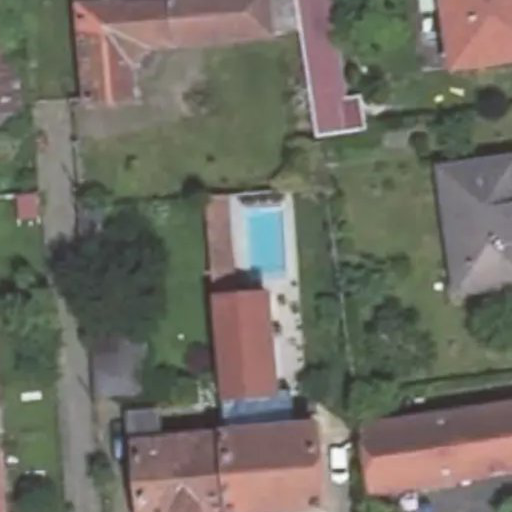pool: (233, 205, 278, 278)
